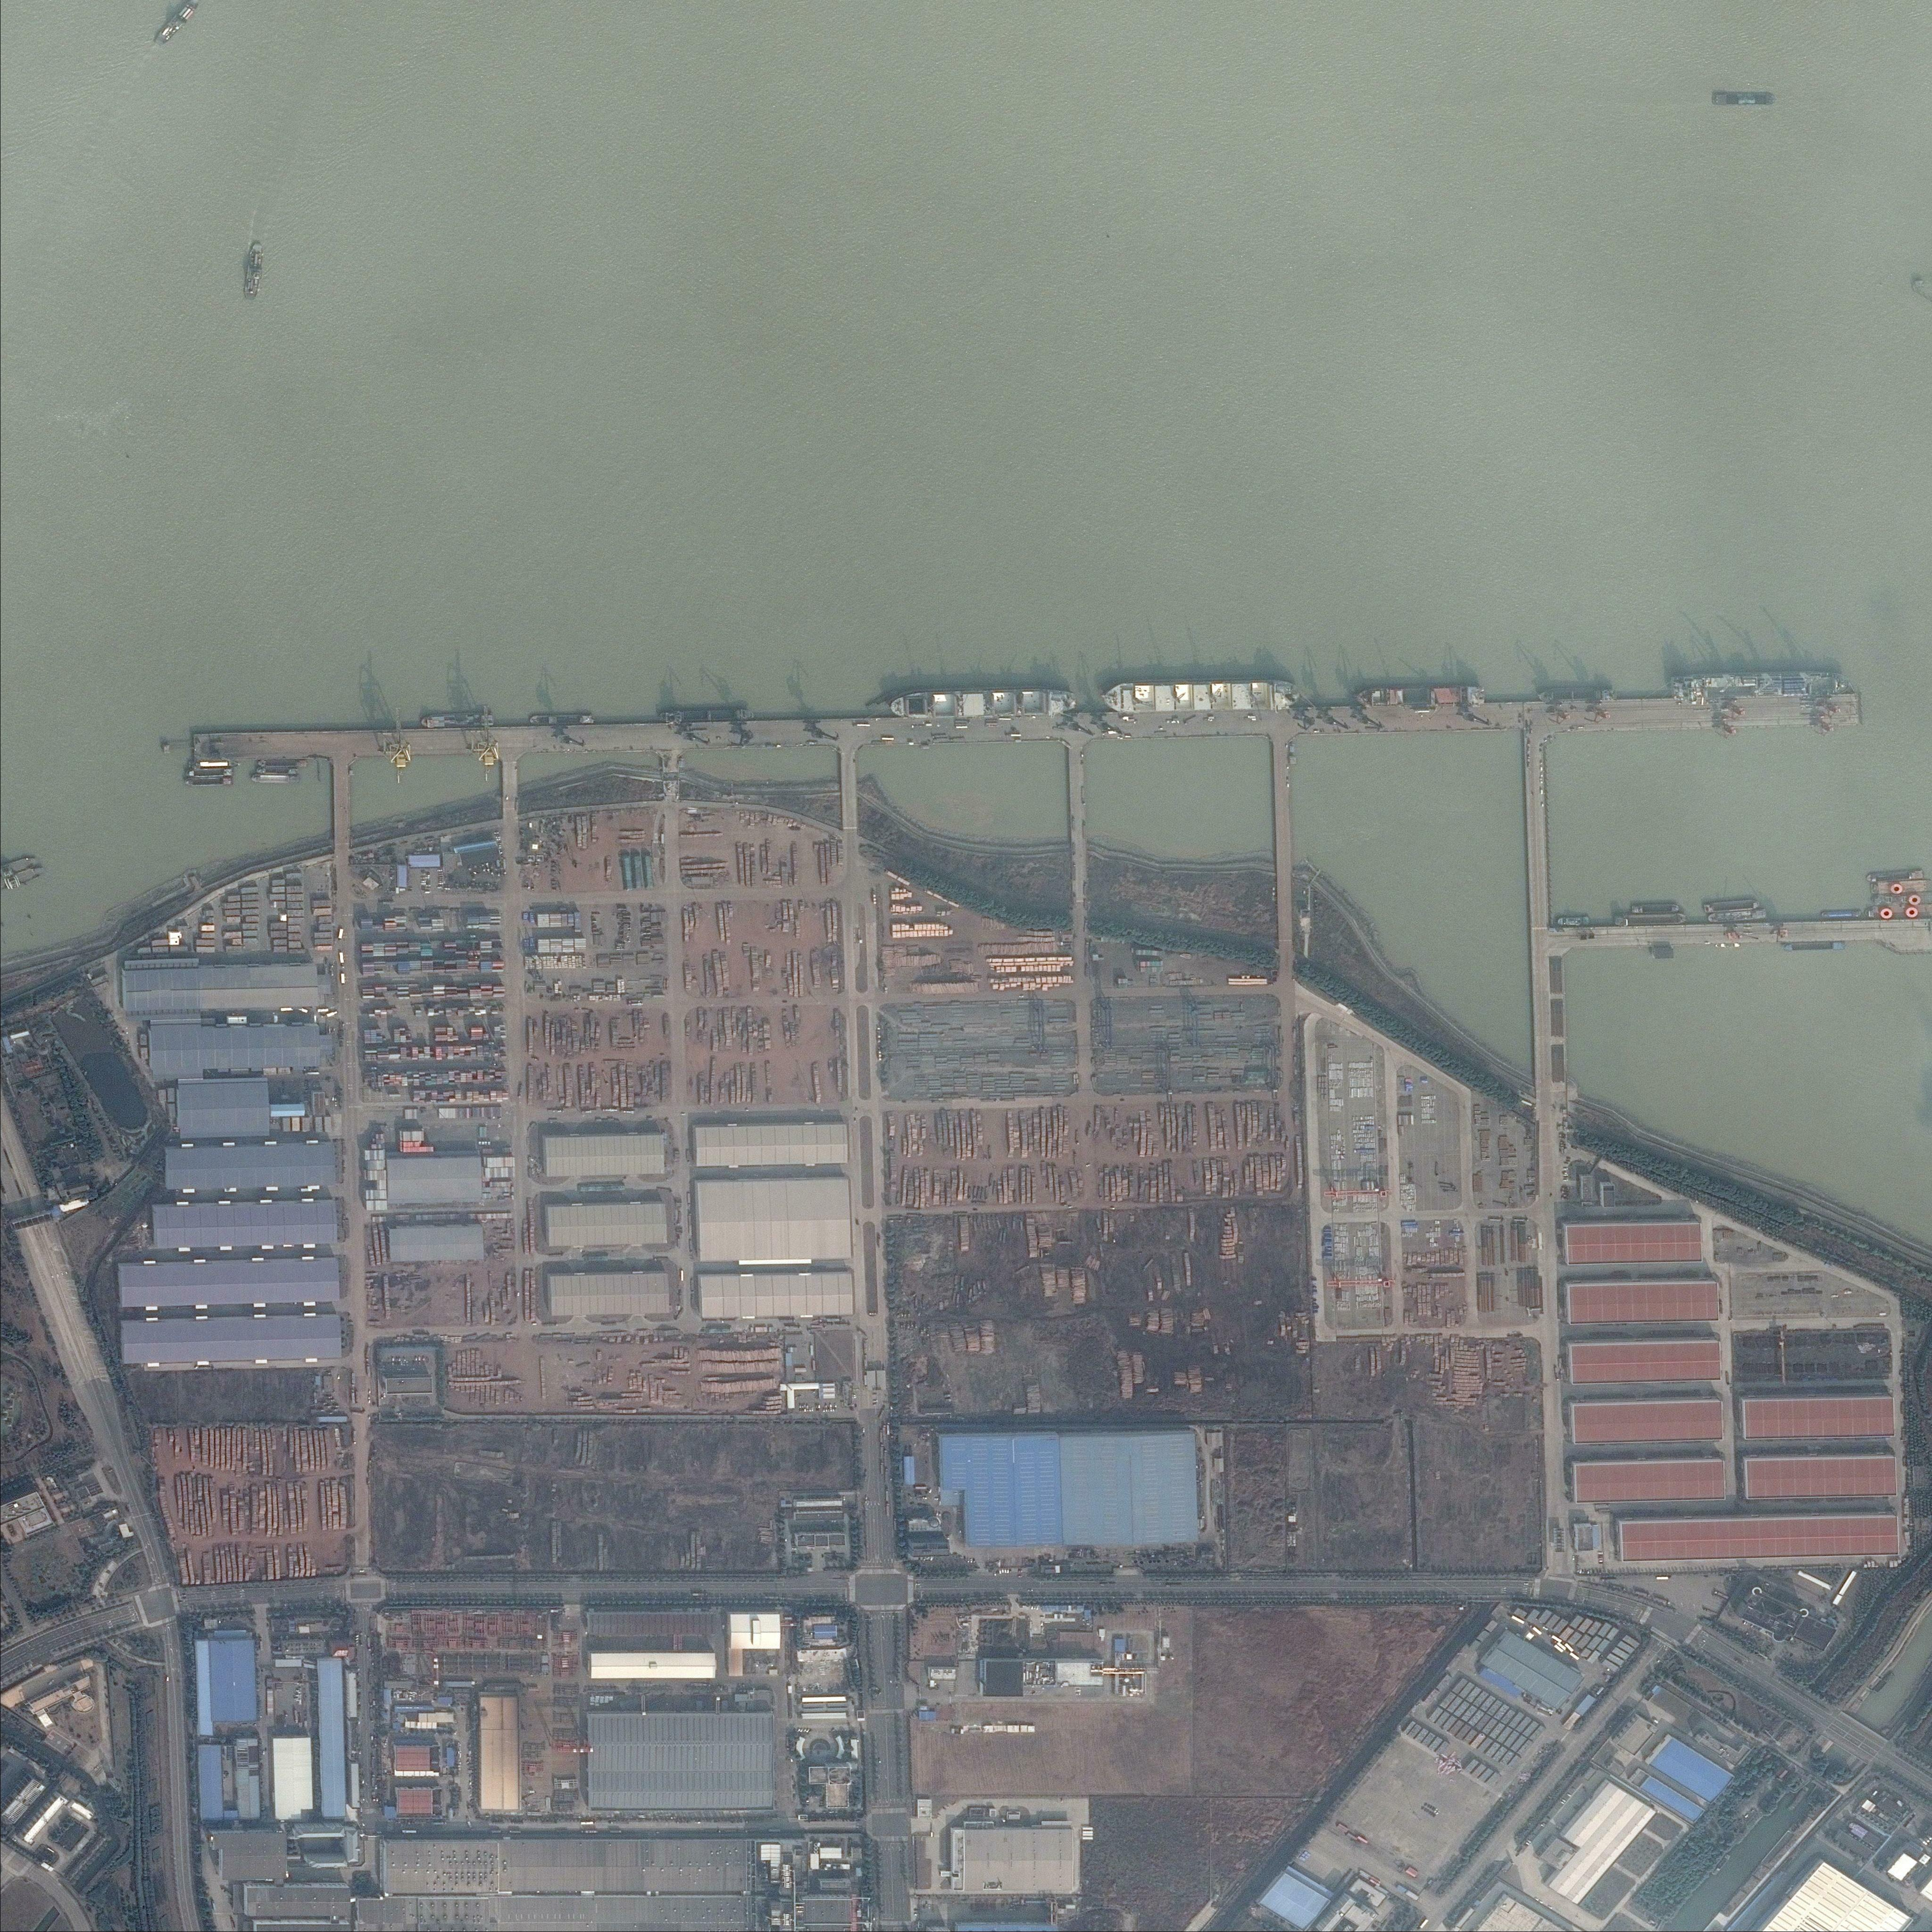harbor: (186, 685, 1870, 816)
ship: (1100, 679, 1302, 713), (892, 690, 1077, 720), (1670, 671, 1849, 699), (1353, 685, 1486, 706), (660, 709, 755, 724), (0, 863, 46, 892), (421, 713, 494, 729), (244, 242, 264, 301), (1614, 913, 1688, 927), (1537, 688, 1617, 701), (1707, 908, 1767, 924), (0, 855, 37, 879), (1704, 899, 1760, 915), (1865, 869, 1923, 883), (529, 715, 596, 725), (1785, 1785, 1810, 1813), (1782, 943, 1845, 954), (251, 773, 301, 784), (1651, 943, 1675, 961), (258, 759, 308, 768), (184, 777, 234, 786), (1631, 904, 1681, 913), (257, 766, 299, 775), (188, 761, 241, 768), (186, 770, 234, 777), (1822, 909, 1859, 918), (1559, 916, 1589, 927), (1716, 943, 1741, 950)
